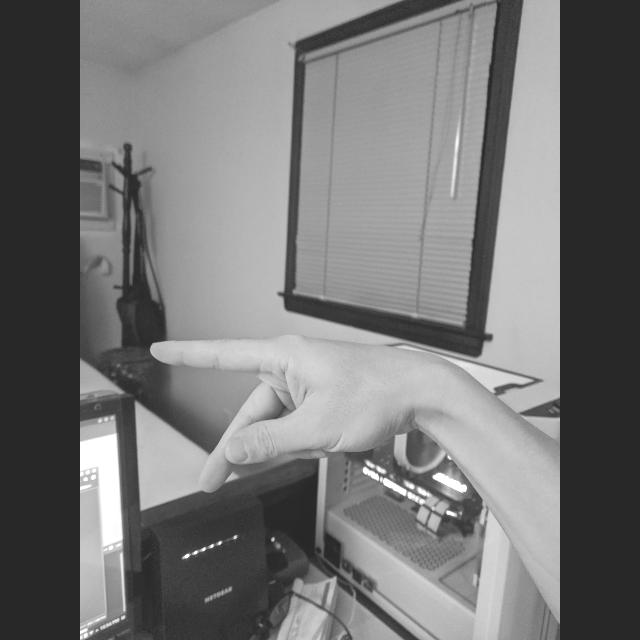P: (148, 329, 418, 497)
